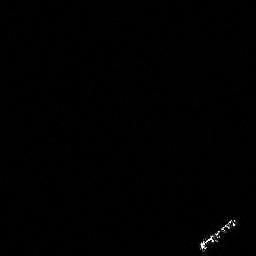ship: (199, 214, 240, 255)
